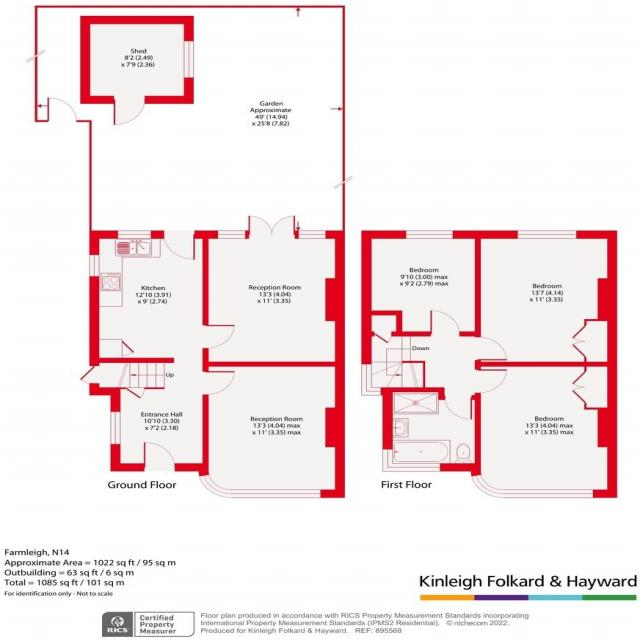DOOR: (440, 387, 476, 423), (160, 230, 199, 263), (141, 439, 179, 471), (474, 367, 511, 396), (203, 323, 238, 353), (429, 308, 464, 336), (476, 334, 510, 362)
DOUBLE DOOR: (245, 214, 299, 241)
ROOM: (203, 211, 345, 367), (467, 361, 618, 499), (89, 230, 243, 363), (199, 362, 346, 498), (475, 230, 618, 367), (361, 230, 481, 336)
WINDOW: (469, 471, 598, 500), (197, 472, 324, 501), (380, 445, 443, 474), (359, 361, 387, 398), (513, 227, 580, 241), (404, 227, 457, 242), (107, 409, 124, 447), (117, 228, 154, 240), (298, 228, 327, 240), (217, 229, 247, 240), (89, 253, 101, 278)
